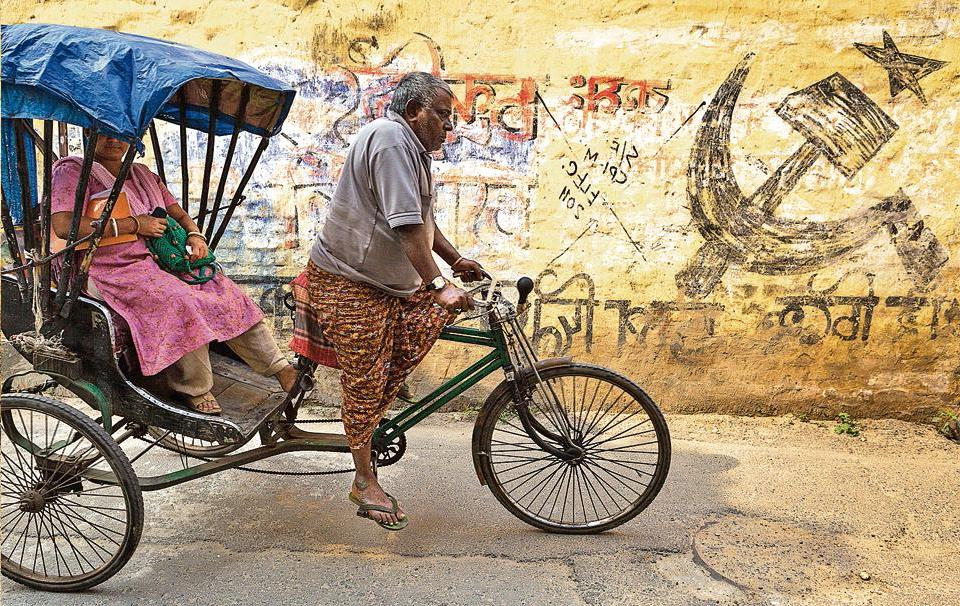Rickshaw: (6, 20, 679, 596)
